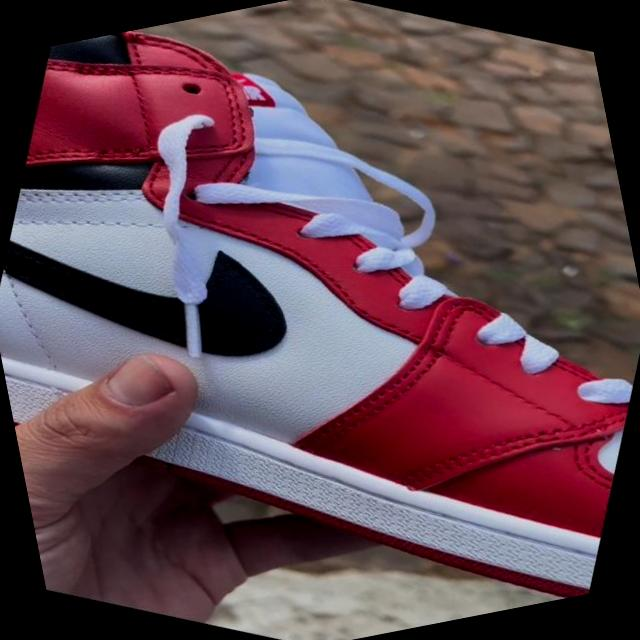nike_original_jordan: (2, 38, 640, 640)
